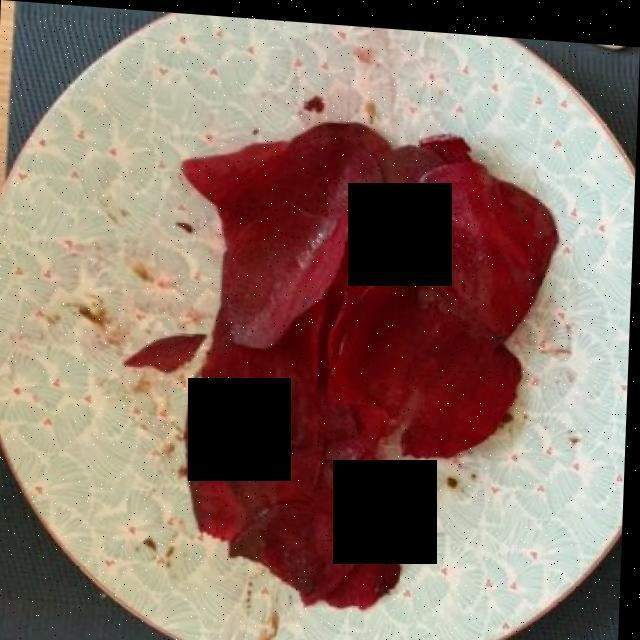beetroot: (159, 116, 543, 603)
